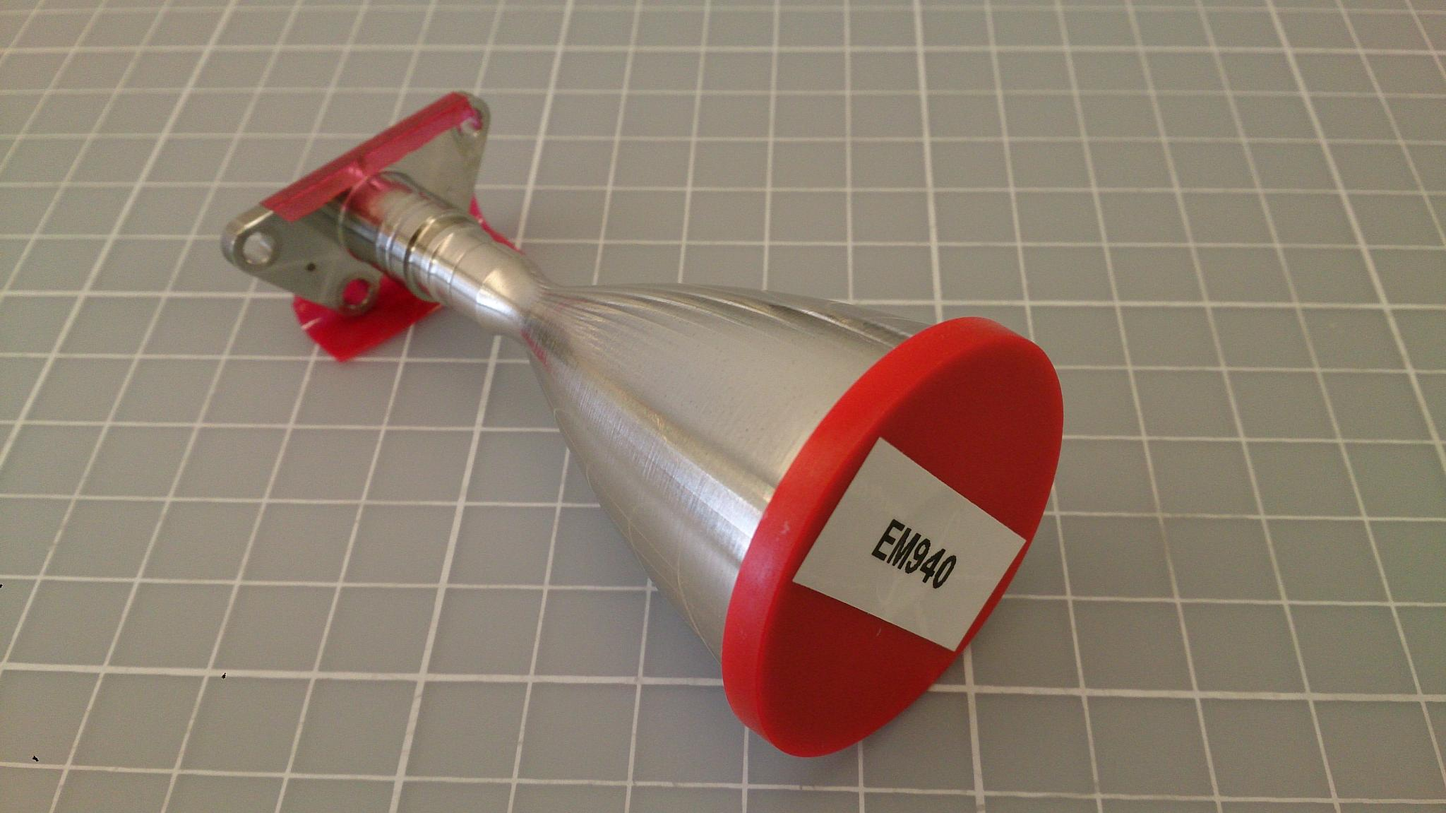thruster: (429, 226, 1070, 758)
